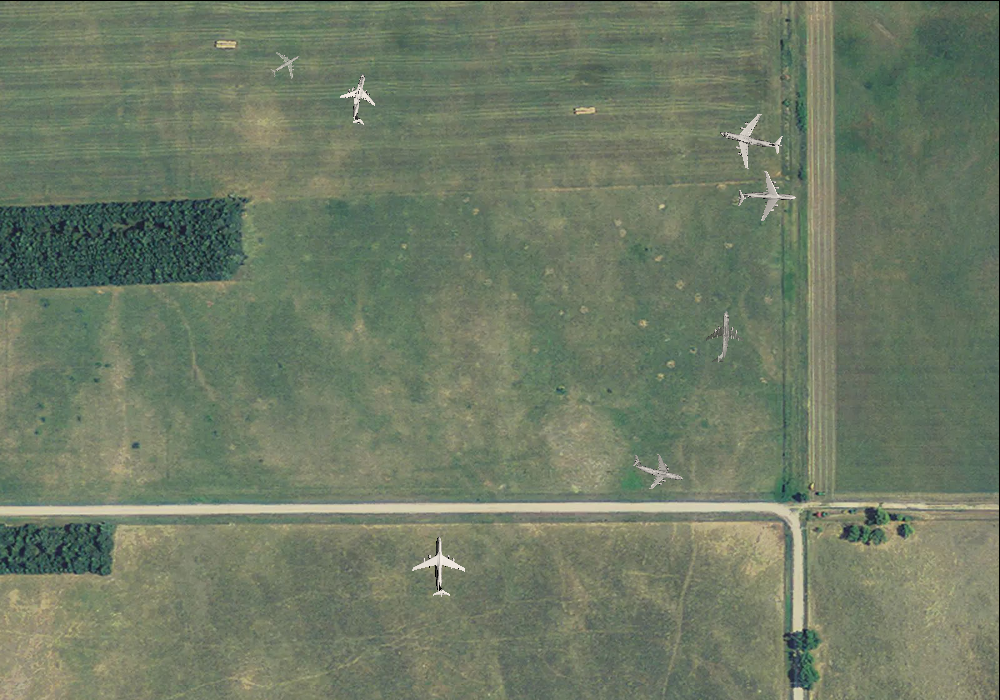plane: (713, 102, 788, 175), (735, 167, 797, 227), (410, 536, 469, 597), (627, 442, 688, 497), (332, 69, 387, 128), (698, 310, 747, 364), (263, 42, 307, 85)
